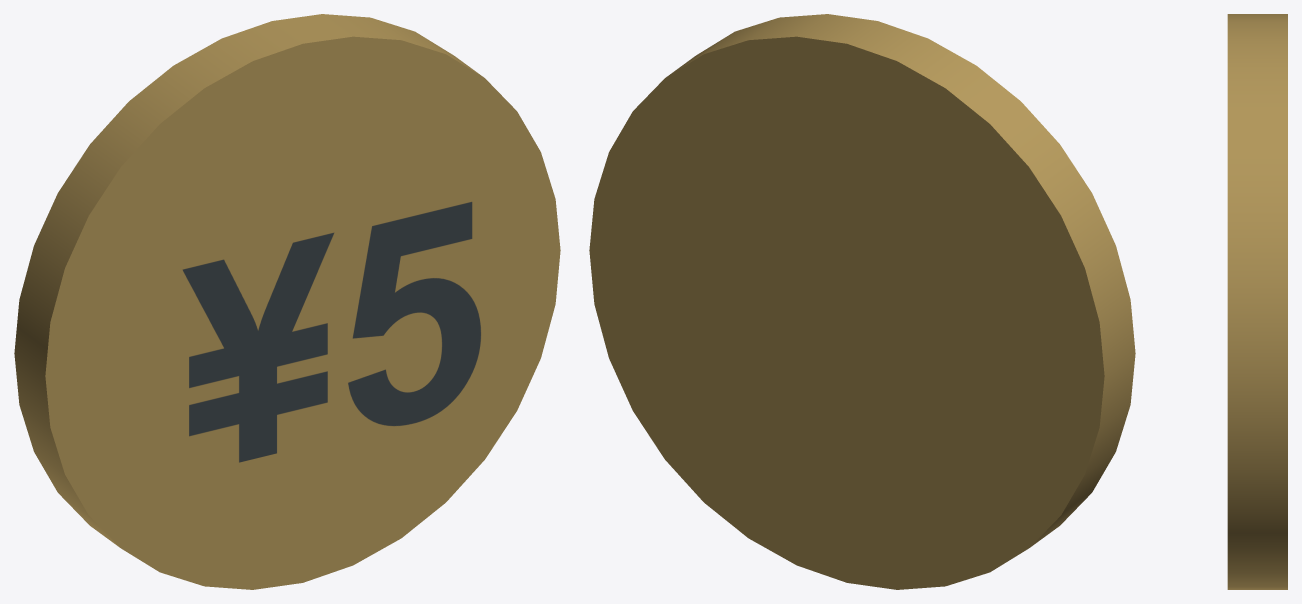
File: coin.glb
The picture shows the model from 3 angles, left to right: view 1: azimuth 30°, elevation 25°; view 2: azimuth 150°, elevation 25°; view 3: azimuth 270°, elevation 25°; orthographic projection. The views are drawn at different scales.
Visible parts, largest first — view 1: InsertedCoin_Batch0, InsertedCoin_Batch1; view 2: InsertedCoin_Batch0; view 3: InsertedCoin_Batch0.
Boxes of the visible parts, x1,y1,x2,y2 form: InsertedCoin_Batch0: (14, 14, 560, 589); InsertedCoin_Batch1: (182, 202, 480, 462); InsertedCoin_Batch0: (589, 14, 1135, 589); InsertedCoin_Batch0: (1227, 14, 1287, 589).
Size of the model in its own units: 0.024 by 0.024 by 0.00515.
Materials: 2 (1 with a texture image).
